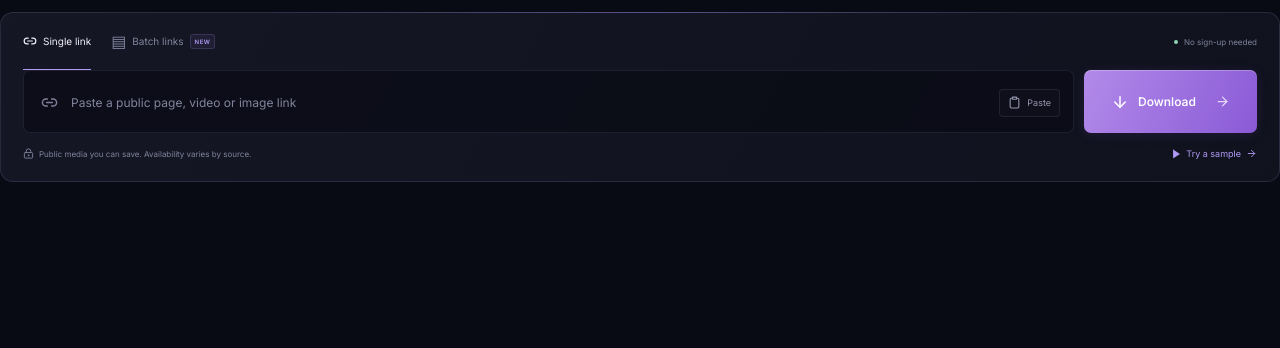
downloader interaction › cancels a resolving request and returns the form to an editable state
In the field: (548, 102) x1=24 y1=71 x2=1073 y2=132, type "https://media.w3.org/flower.mp4"
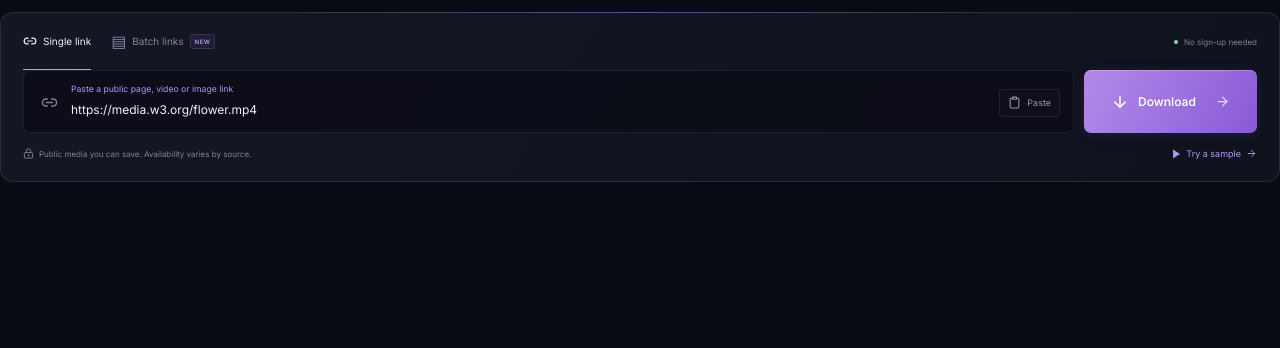
Submit the form named "Media downloader", box x1=23 y1=70 x2=1257 y2=162
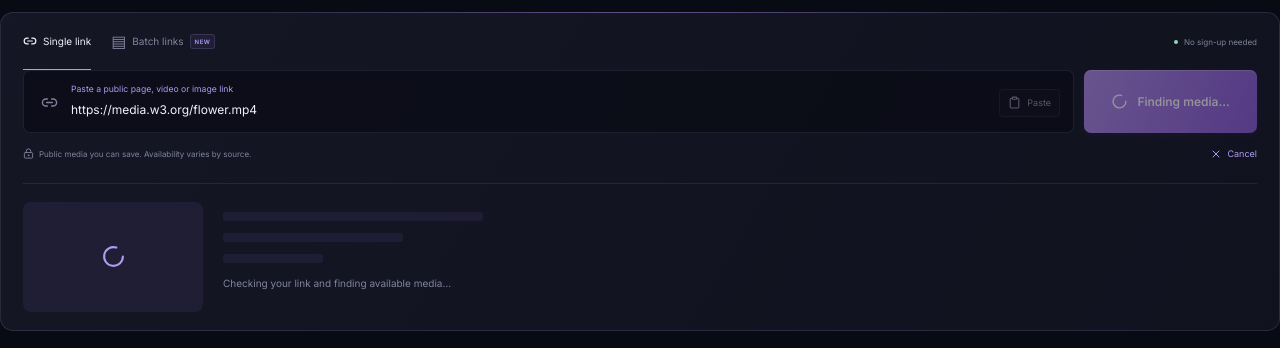
Click the button "Cancel": (1234, 154) x1=1210 y1=145 x2=1257 y2=162
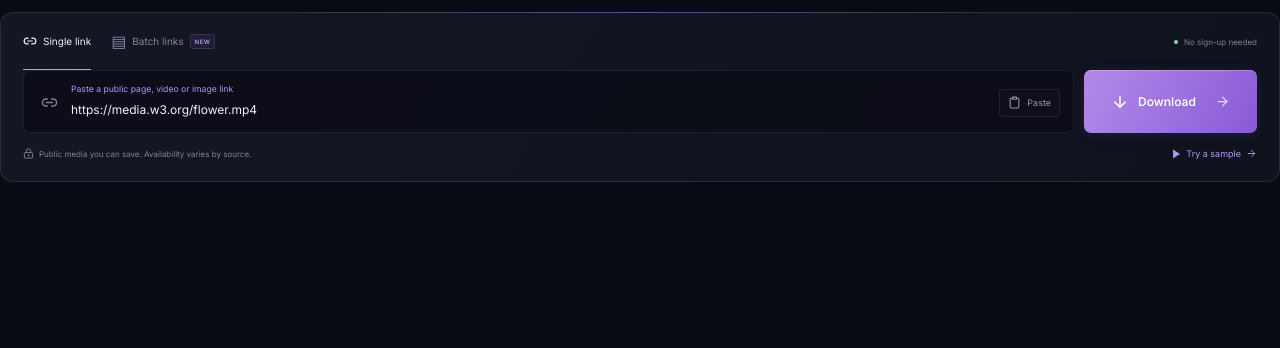
Expected: the field is enabled, x1=24 y1=71 x2=1073 y2=132
Expected: the message "Checking your link and finding available media…" is gone
